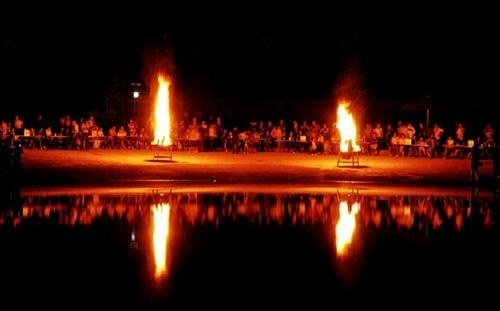fire: (151, 71, 175, 146), (152, 201, 170, 276), (334, 200, 358, 255), (335, 99, 359, 153)
